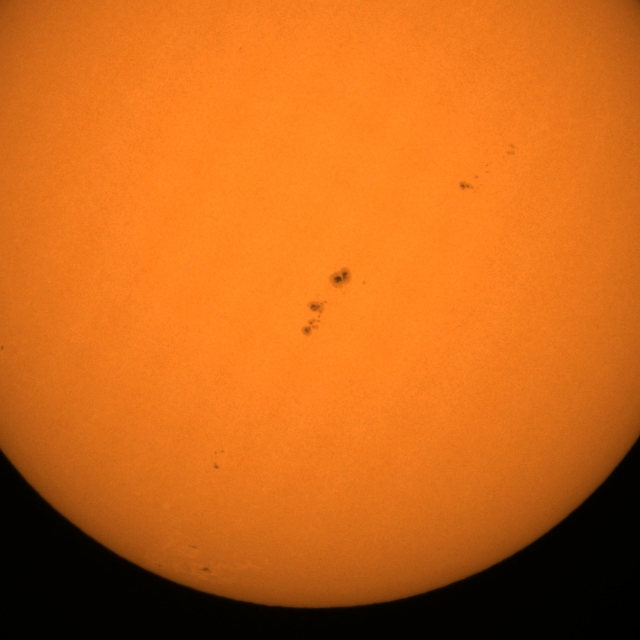sunspot: (301, 298, 328, 338), (328, 266, 353, 290), (458, 175, 483, 193), (212, 451, 225, 468), (507, 143, 517, 157), (199, 566, 211, 574), (213, 449, 225, 457), (188, 544, 198, 550), (238, 45, 244, 54), (213, 463, 220, 470), (0, 344, 5, 352)
